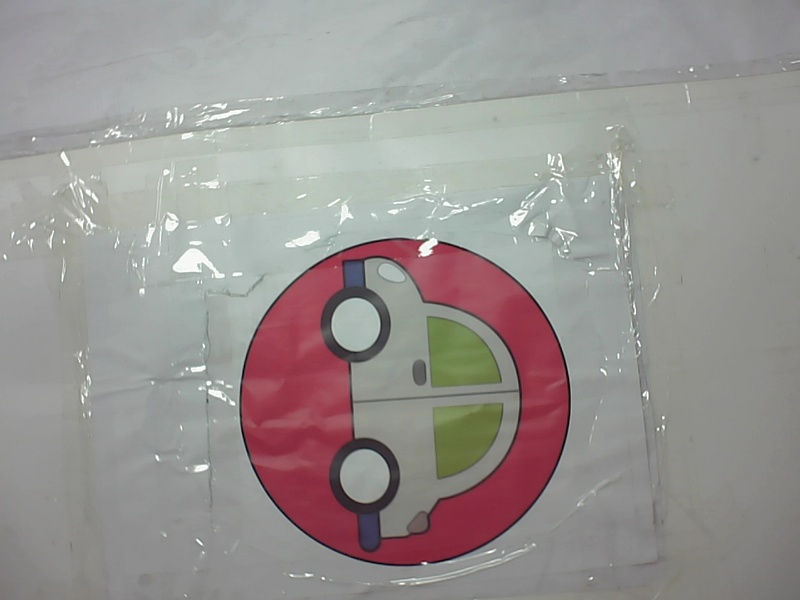areaC: (225, 219, 581, 574)
